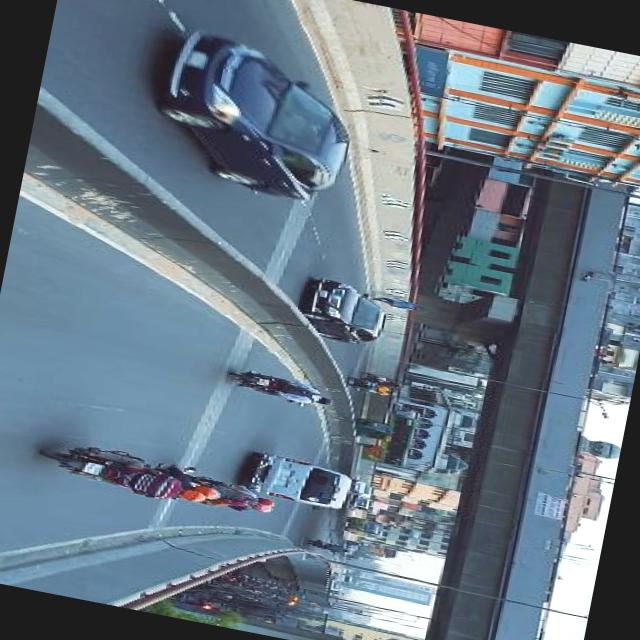bus: (341, 516, 388, 544)
car: (294, 274, 394, 352)
motorcycle: (36, 436, 233, 514), (220, 362, 338, 415), (353, 417, 398, 447), (305, 539, 357, 561), (348, 376, 387, 402)
truck: (238, 449, 356, 518)
